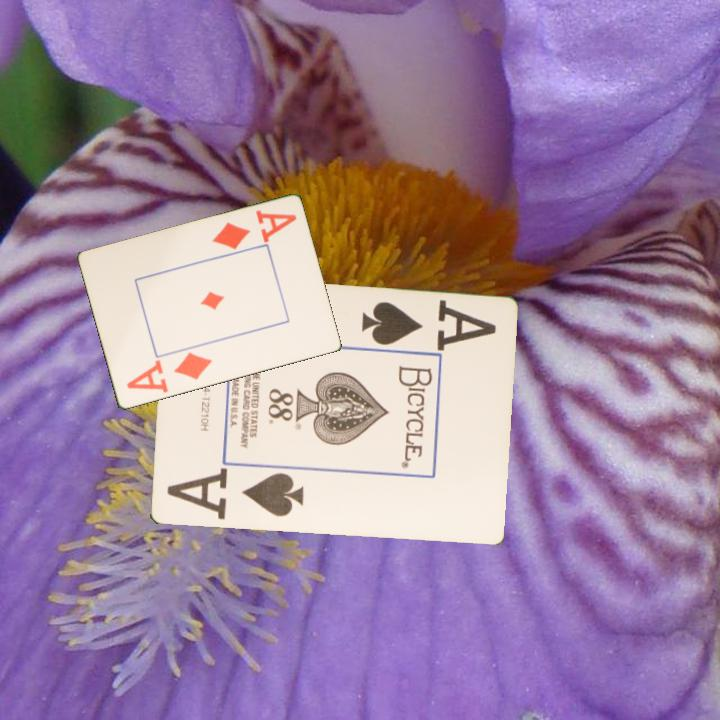Ad: (123, 349, 215, 396), (208, 206, 299, 253)
As: (357, 297, 498, 353), (176, 470, 307, 520)
